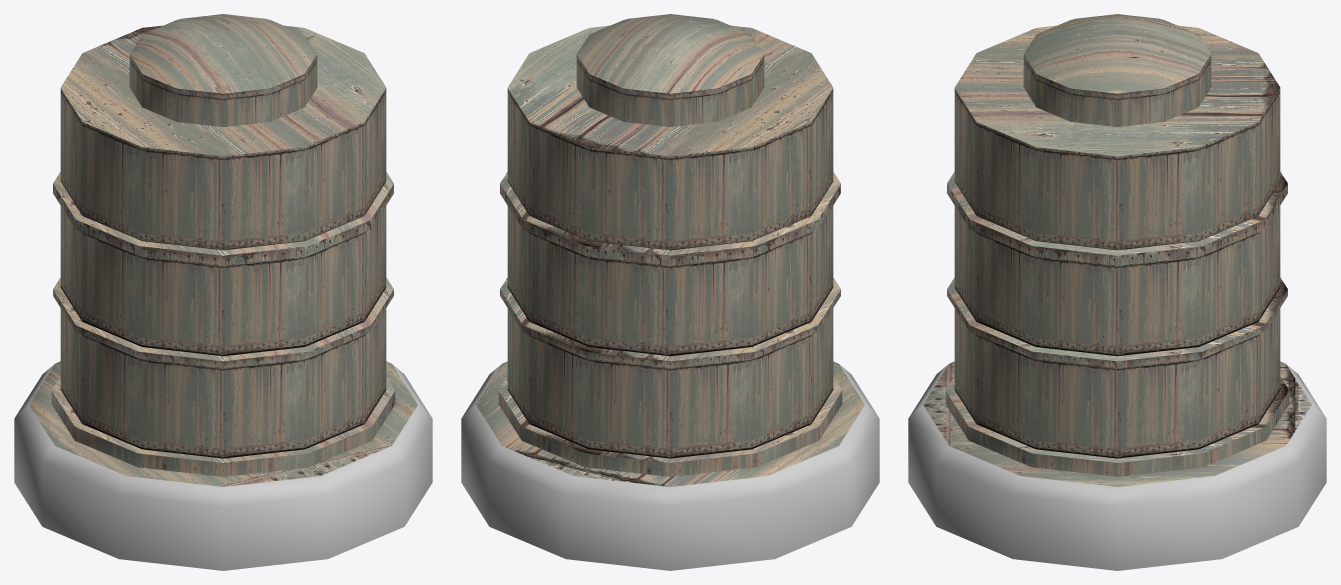
The model's file is oiltank1_lod.fbx.
The picture shows the model from 3 angles, left to right: view 1: azimuth 30°, elevation 25°; view 2: azimuth 150°, elevation 25°; view 3: azimuth 270°, elevation 25°; orthographic projection.
Parts seen in each view (by area): view 1: Mesh Object; view 2: Mesh Object; view 3: Mesh Object.
Boxes of the visible parts, box(x1,y1,x2,y2) form: Mesh Object: box(14, 14, 432, 570); Mesh Object: box(461, 14, 879, 570); Mesh Object: box(908, 14, 1326, 570).
Bounding box in the file's own units: 7.19 × 8.58 × 7.19.
